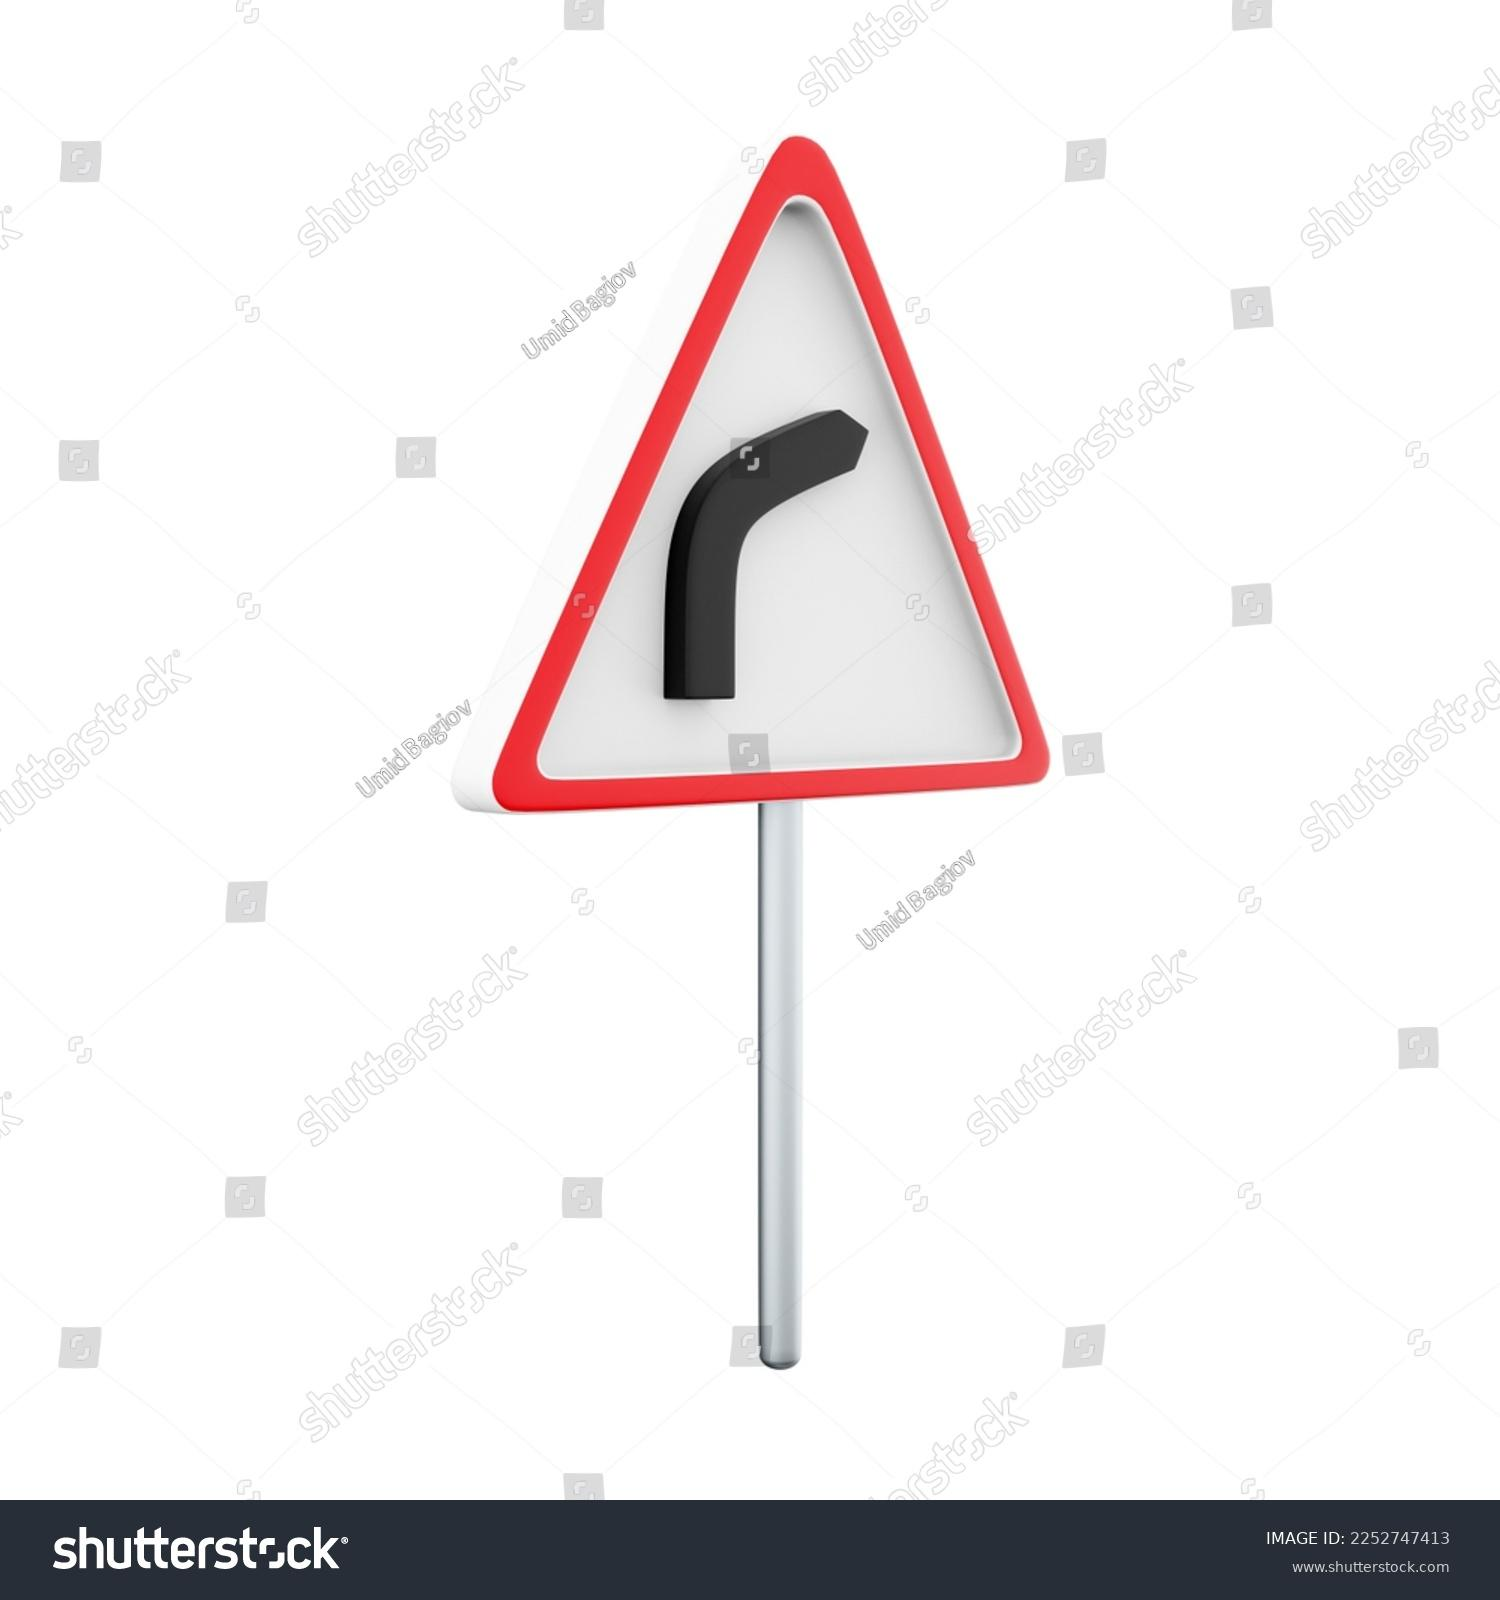Right Hand Curve: (447, 78, 1117, 1425)
